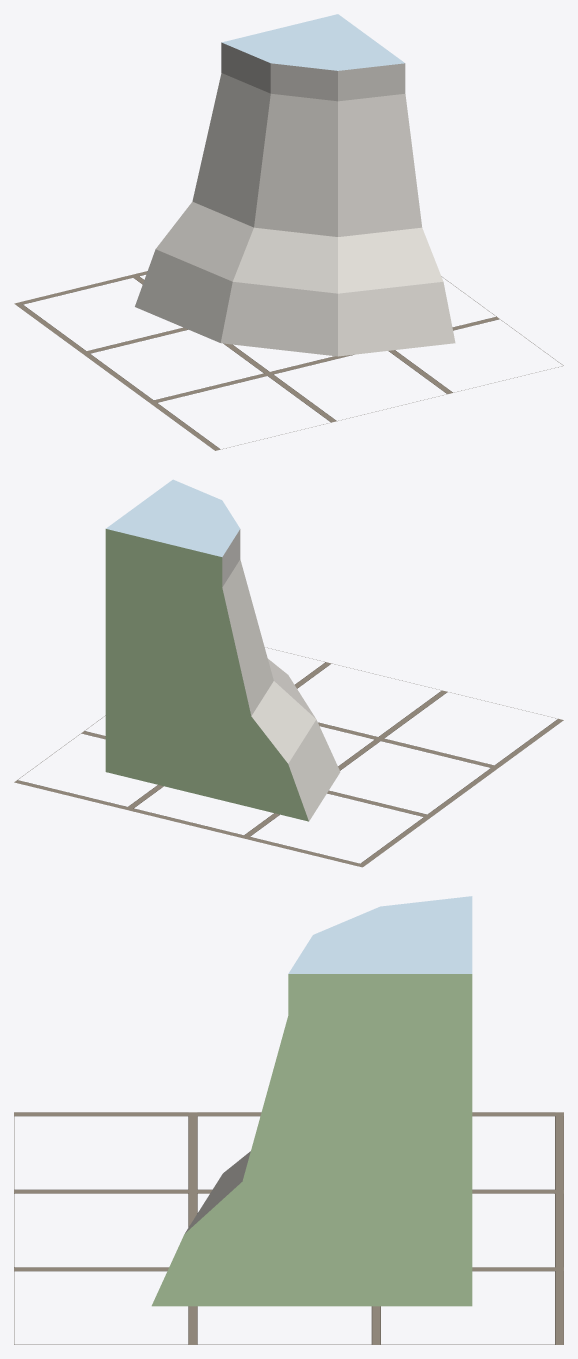
File: Wall_Curve_Outer_2x2_Base.glb
The picture shows the model from 3 angles, top to bottom: view 1: azimuth 30°, elevation 25°; view 2: azimuth 150°, elevation 25°; view 3: azimuth 270°, elevation 25°; orthographic projection. The views are drawn at different scales.
Parts seen in each view (by area): view 1: Wall_Curve_Outer_2x2_Base, Floor; view 2: Wall_Curve_Outer_2x2_Base, Floor; view 3: Wall_Curve_Outer_2x2_Base, Floor.
Boxes of the visible parts, x1,y1,x2,y2 form: Wall_Curve_Outer_2x2_Base: (135, 14, 455, 356); Floor: (14, 271, 563, 450); Wall_Curve_Outer_2x2_Base: (105, 479, 340, 821); Floor: (14, 647, 563, 867); Wall_Curve_Outer_2x2_Base: (151, 896, 472, 1306); Floor: (14, 1112, 563, 1344).
Size of the model in its own units: 300 by 200 by 300.
Materials: 5 (1 with a texture image).
